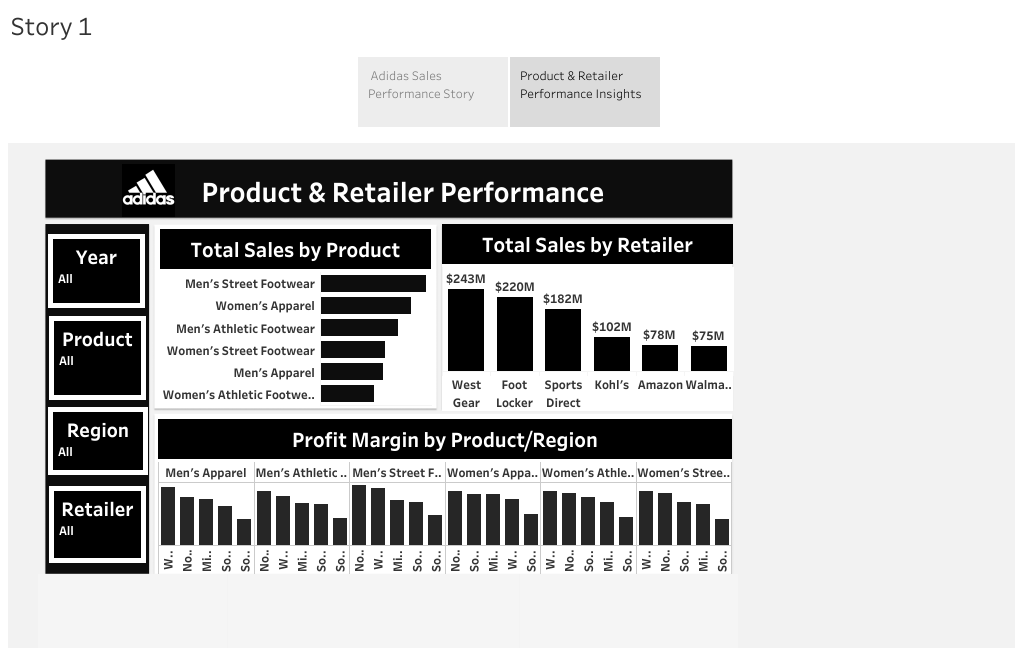

The dashboard page shown, as its layout file describes it:
{"tool":"tableau","page":{"name":"Dashboard 2","canvas":[1979,1183],"ordinal":1},"visuals":[{"type":"text","box":[191,11,490,74]},{"type":"image","param":"Image/تنزيل (2).png","box":[44,21,193,53]},{"type":"worksheet","title":"total sales by retailer","mark":"Automatic","rows":["Total Sales"],"cols":["Retailer"],"box":[434,81,291,187]},{"type":"worksheet","title":"total sales by product","mark":"Automatic","rows":["Product"],"cols":["Total Sales"],"box":[152,86,271,176]},{"type":"filter","title":"total sales by retailer","param":"[federated.1i5iono1qp2k8r14g33wg1e7grcs].[yr:Invoice Date:ok]","box":[40,91,97,74]},{"type":"filter","title":"total sales by retailer","param":"[federated.1i5iono1qp2k8r14g33wg1e7grcs].[none:Product:nk]","box":[41,173,97,84]},{"type":"filter","title":"total sales by retailer","param":"[federated.1i5iono1qp2k8r14g33wg1e7grcs].[none:Region:nk]","box":[40,264,100,68]},{"type":"worksheet","title":"Profit Margin by Product/Region","mark":"Automatic","rows":["Operating Margin"],"cols":["Product","Region"],"box":[150,276,574,155]},{"type":"filter","title":"total sales by retailer","param":"[federated.1i5iono1qp2k8r14g33wg1e7grcs].[none:Retailer:nk]","box":[41,343,97,77]}]}

Visuals, with their boxes on the page's 1979x1183 design canvas (x1, y1, x2, y2). These are canvas units, not pixel positions in the 1015x648 screenshot, which may show the page scaled, cropped or inside an application window:
text: box(191, 11, 681, 85)
image: box(44, 21, 237, 74)
"total sales by retailer" worksheet: box(434, 81, 725, 268)
"total sales by product" worksheet: box(152, 86, 423, 262)
"total sales by retailer" filter: box(40, 91, 137, 165)
"total sales by retailer" filter: box(41, 173, 138, 257)
"total sales by retailer" filter: box(40, 264, 140, 332)
"Profit Margin by Product/Region" worksheet: box(150, 276, 724, 431)
"total sales by retailer" filter: box(41, 343, 138, 420)
